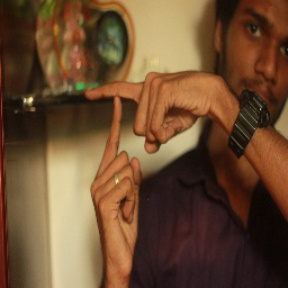T: (68, 70, 161, 191)
